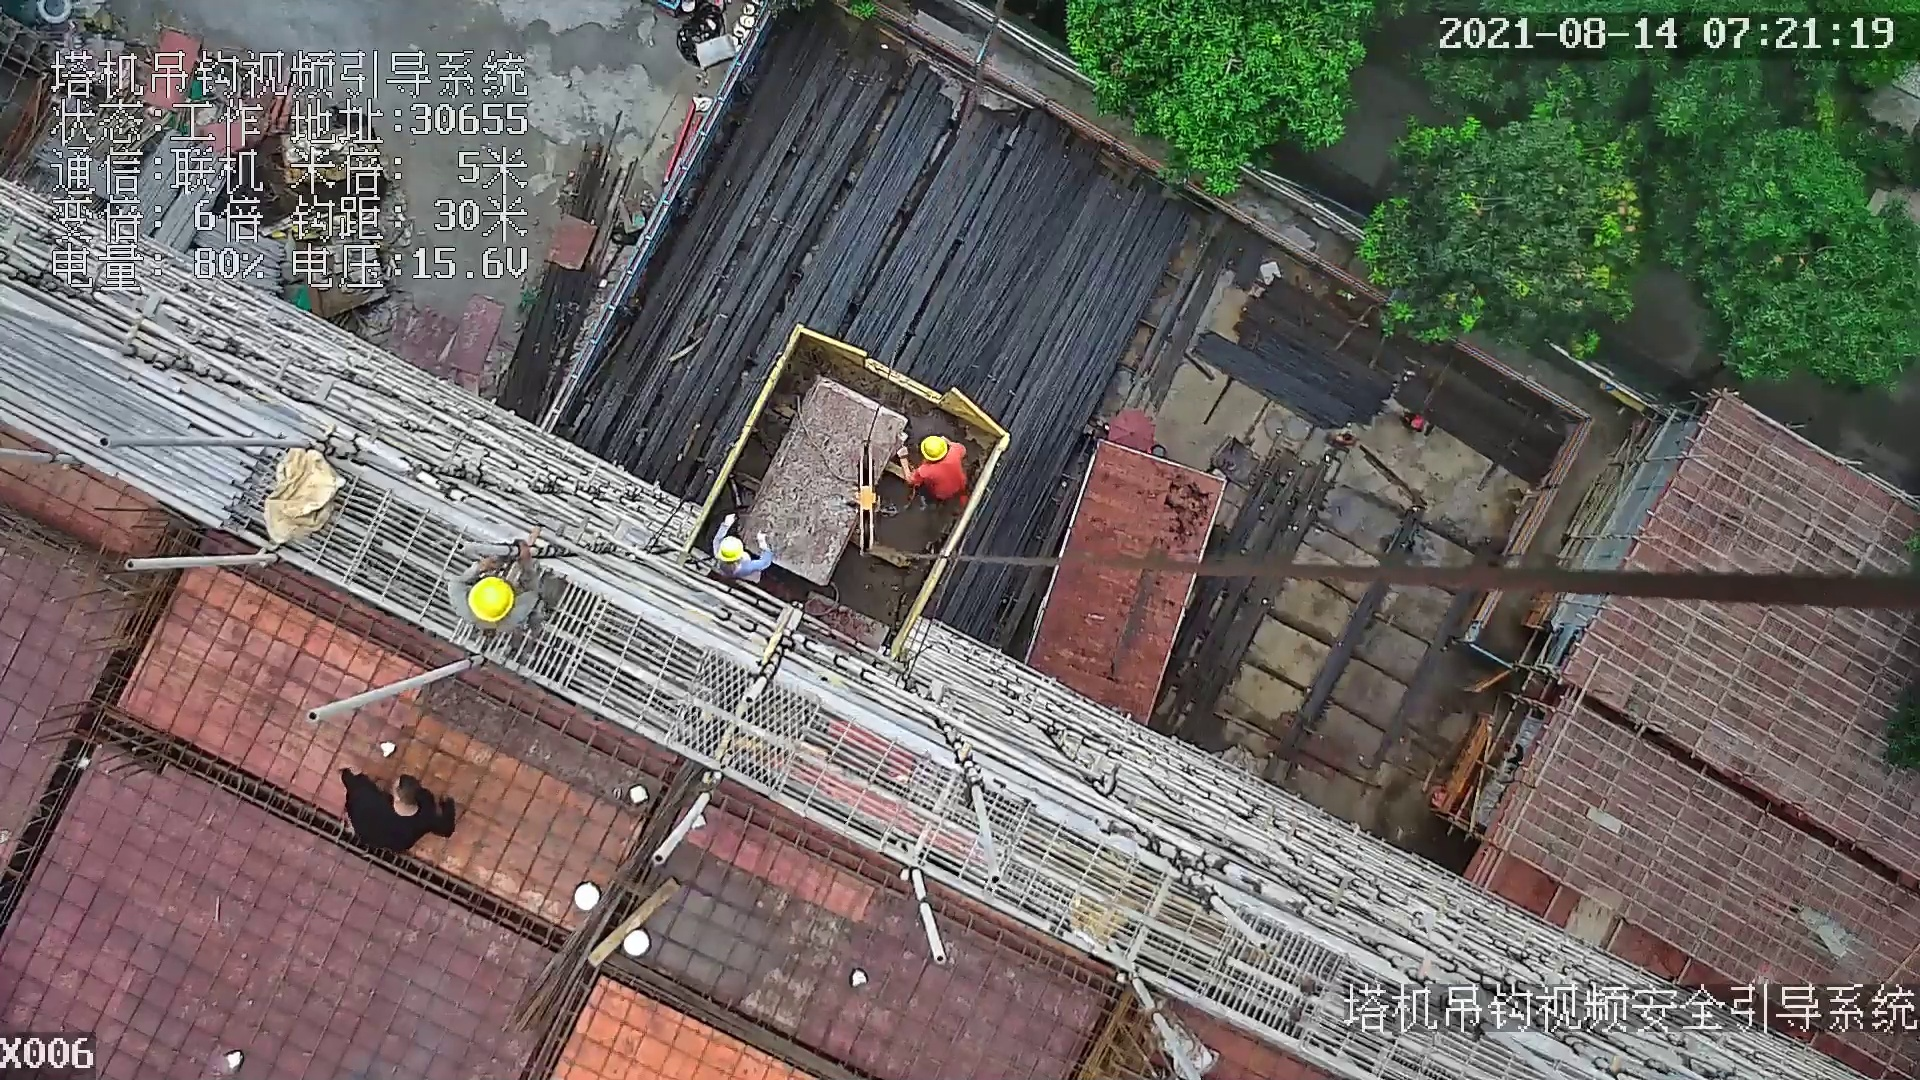helmet: (467, 575, 515, 623), (919, 433, 951, 461), (717, 534, 747, 562)
hook: (849, 437, 890, 564)
person: (337, 764, 464, 847), (445, 551, 560, 636), (895, 435, 973, 505), (709, 519, 774, 581)
